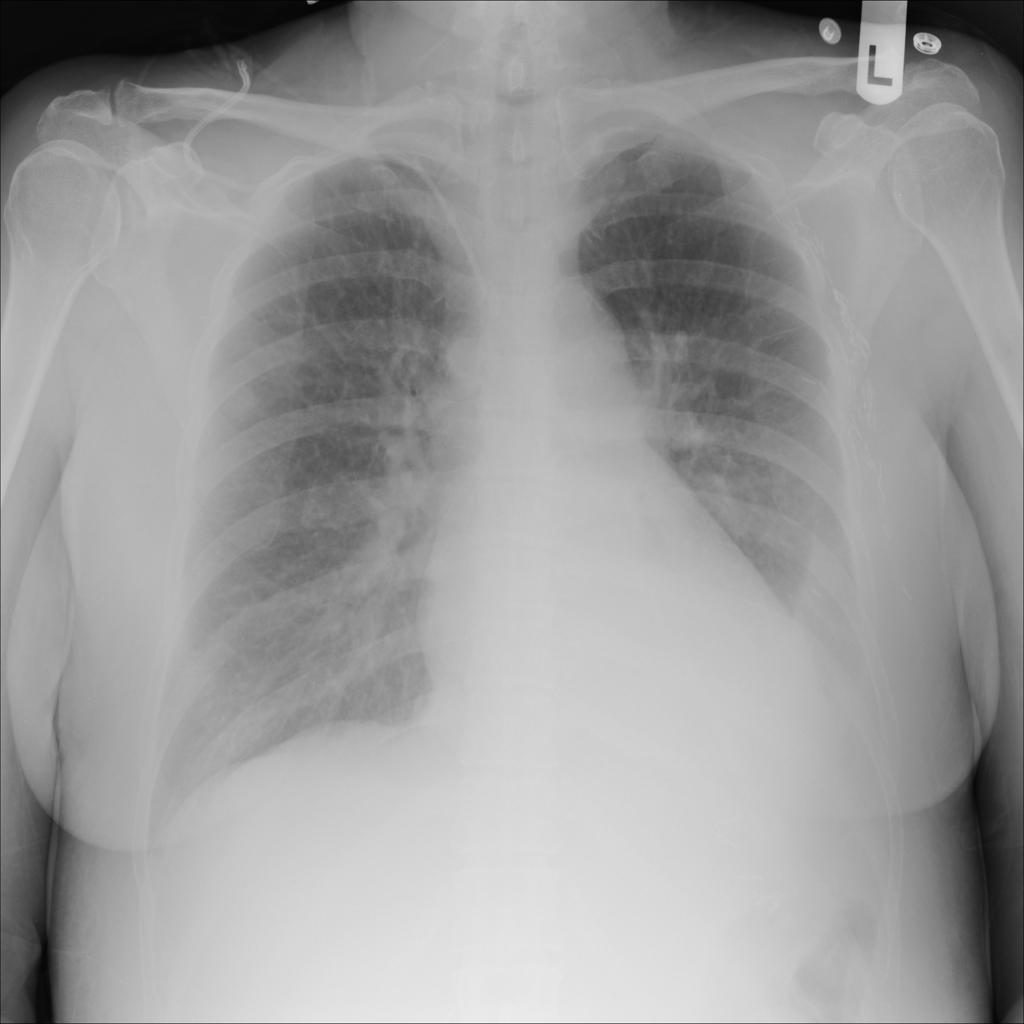nodule: (207, 363, 276, 436)
